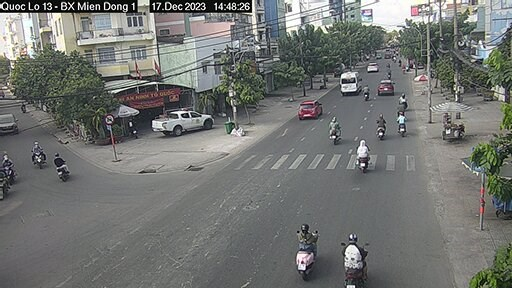car: (147, 104, 220, 135), (339, 70, 364, 103), (299, 94, 322, 123), (379, 77, 395, 100)
motorbike: (336, 228, 369, 282), (286, 224, 317, 275), (370, 116, 393, 143), (356, 139, 367, 172), (328, 120, 341, 146)
